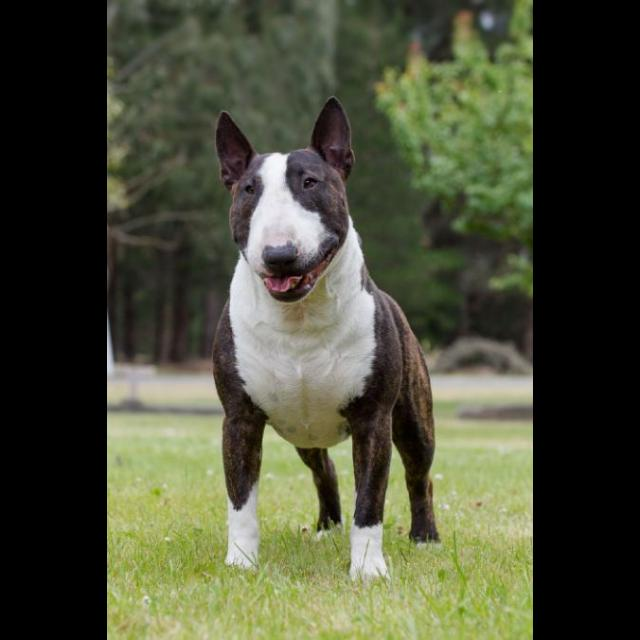bullterrier: (212, 95, 442, 585)
